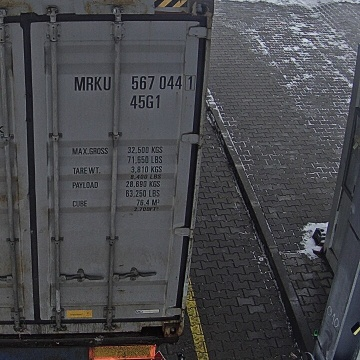serial_id: (74, 76, 193, 90)
